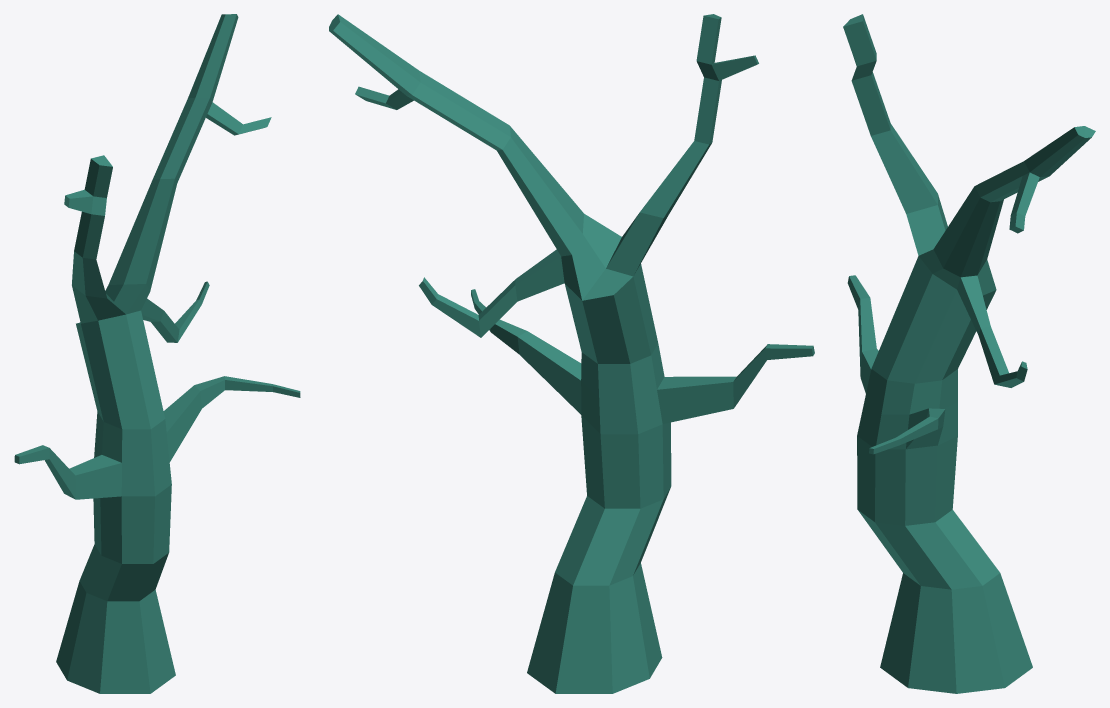
File: 01_06Tree_Orange.fbx
3 renders of one model, left to right at view 1: azimuth 30°, elevation 25°; view 2: azimuth 150°, elevation 25°; view 3: azimuth 270°, elevation 25°, orthographic. The views are drawn at different scales.
Visible parts, largest first — view 1: Cube.014; view 2: Cube.014; view 3: Cube.014.
Part boxes in pixels (bbox=[...]): Cube.014: bbox=[14, 14, 300, 693]; Cube.014: bbox=[329, 14, 814, 693]; Cube.014: bbox=[843, 14, 1095, 693].
Bounding box in the file's own units: 110 × 186 × 65.71.
